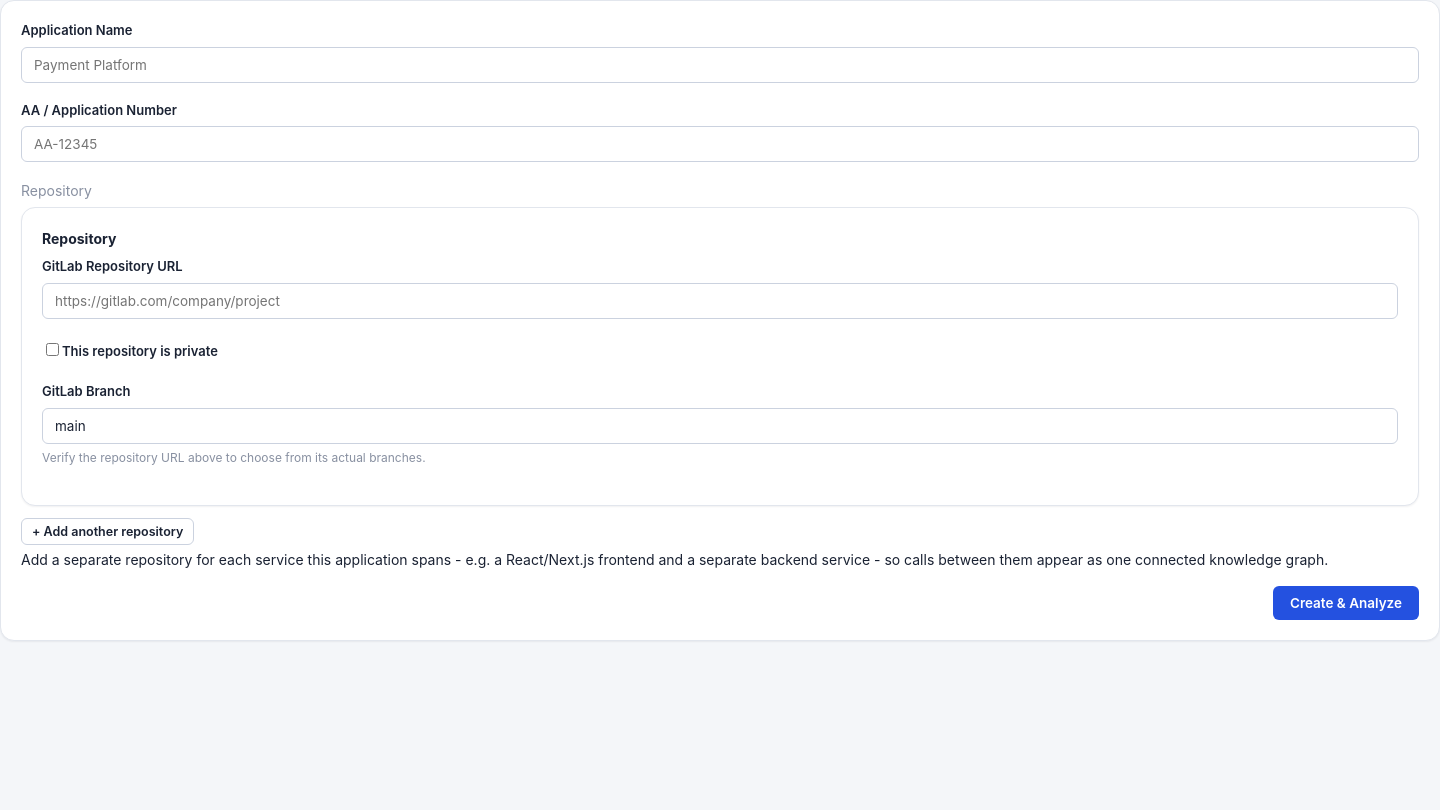
Test: ApplicationForm › blocks submission and shows errors when required fields are empty
Click the button "Create & Analyze". click: (1346, 603)
box: [1273, 586, 1419, 620]
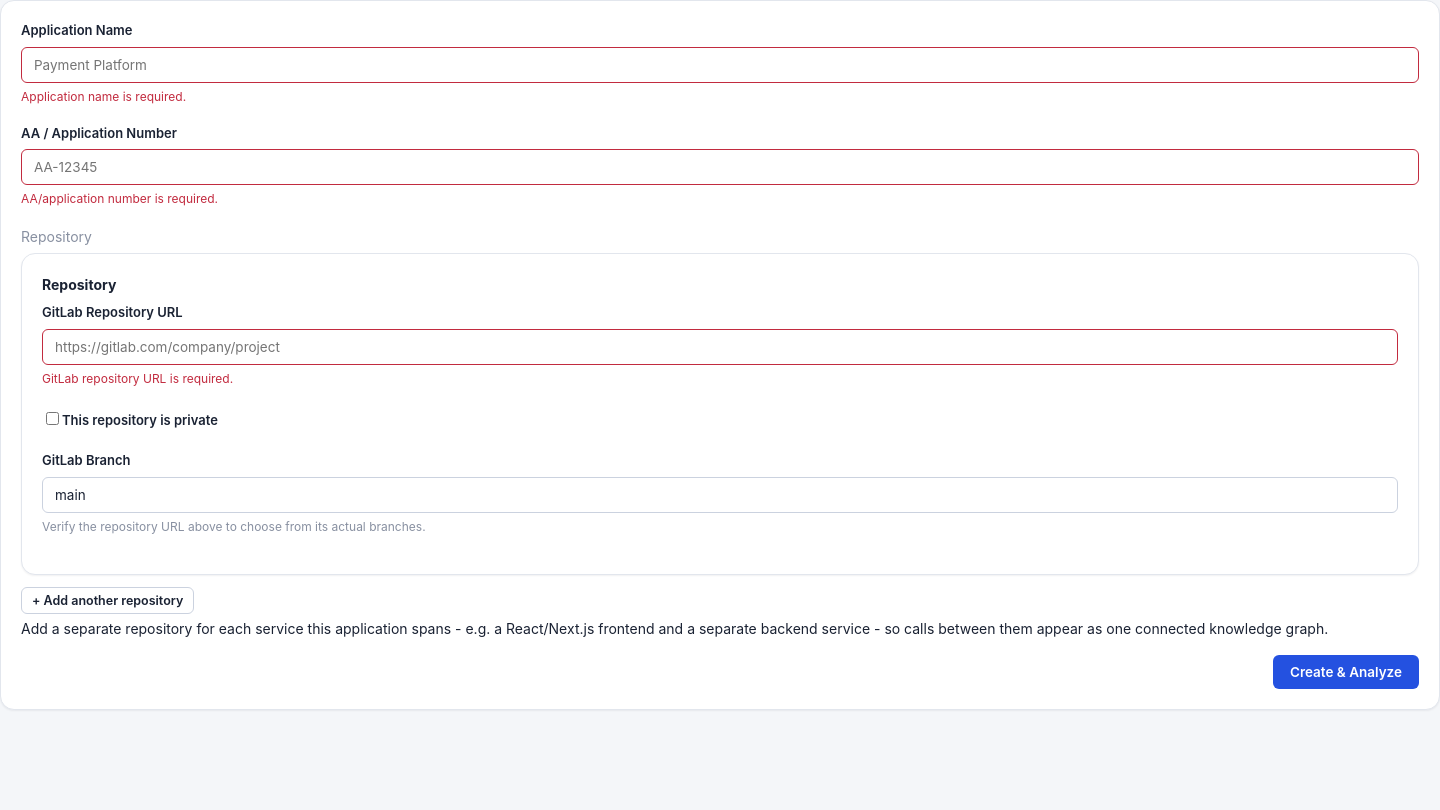
Result: the text "Application name is required." is shown at [21, 88, 186, 104]
Result: the text "AA/application number is required." is shown at [21, 191, 218, 206]
Result: the text "GitLab repository URL is required." is shown at [42, 370, 233, 386]
